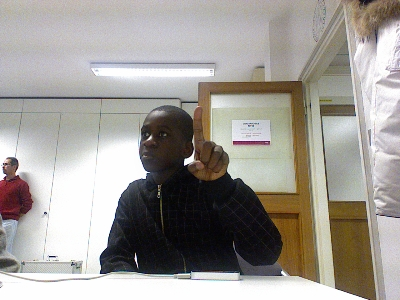食指: (185, 105, 229, 182)
